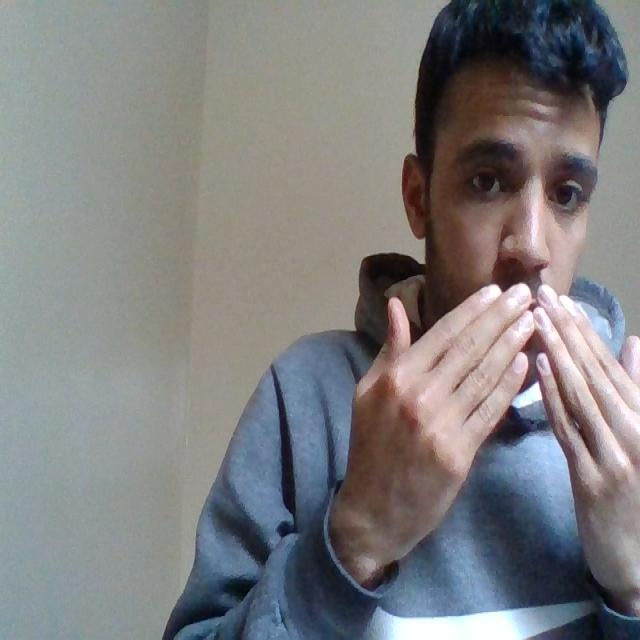Thanks: (325, 276, 639, 605)
